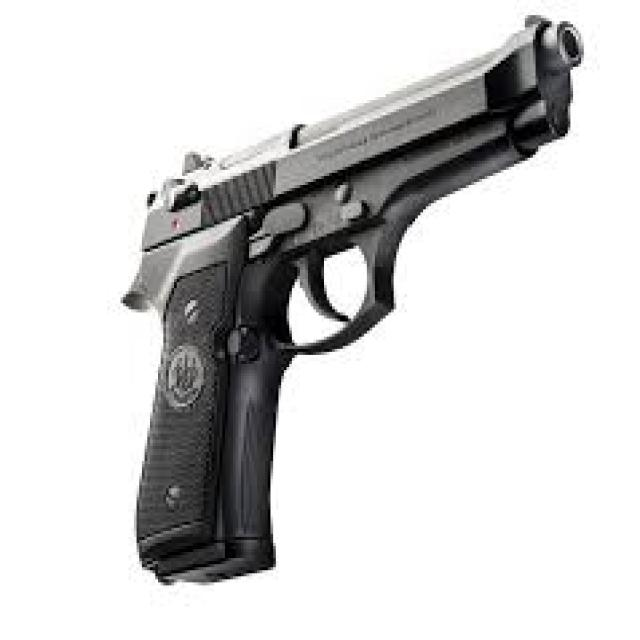pistol: (113, 11, 590, 602)
